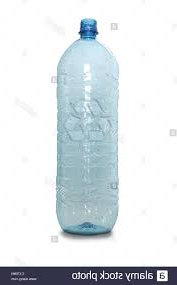plastic water bottle: (56, 16, 120, 238)
